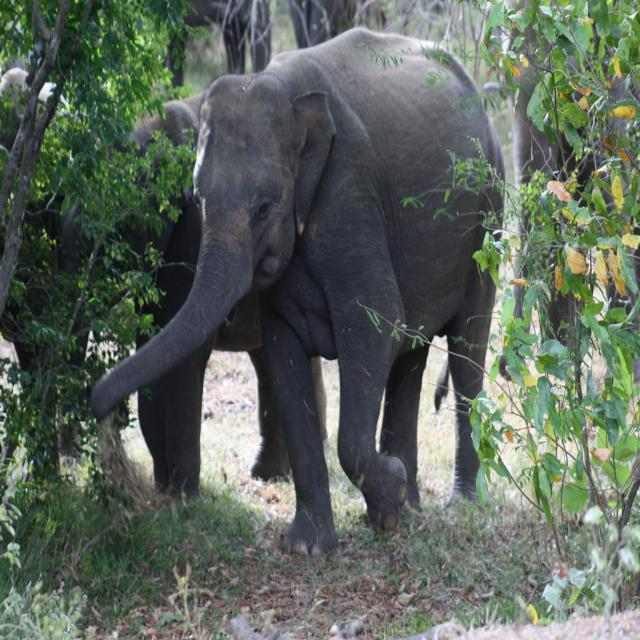elephant: (118, 89, 328, 502)
